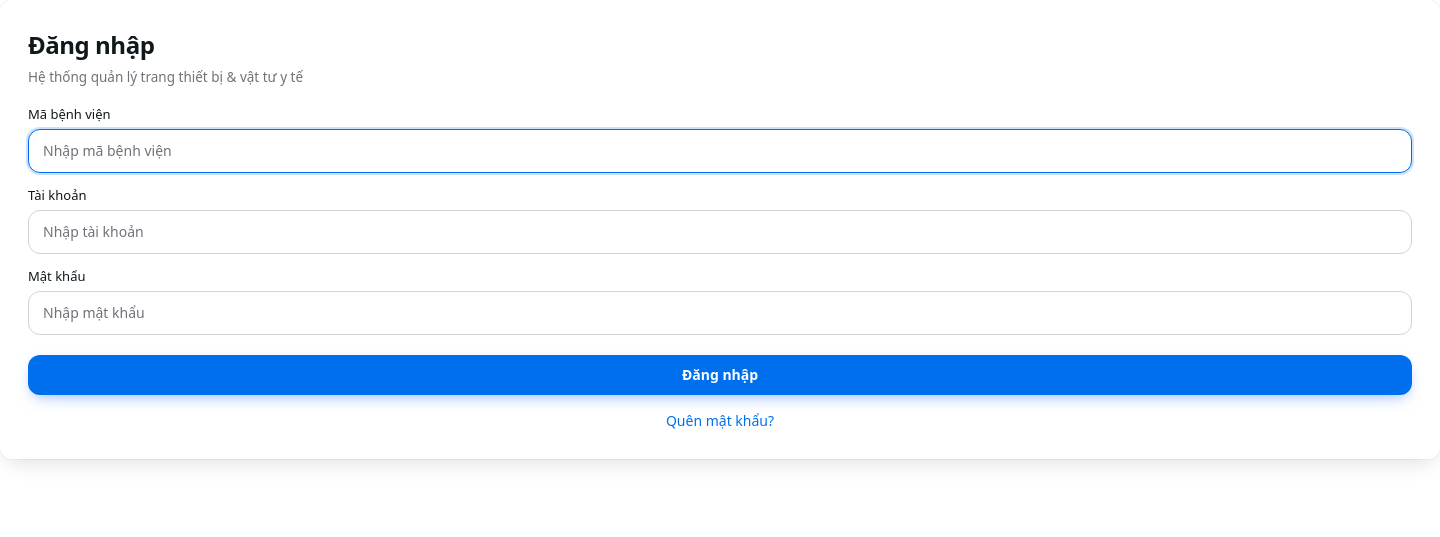
shows mapped error on 401 and uppercases hospital code
This screenshot has width=1440, height=537.
Step 1. Type "bvdemo" into the field labelled "Mã bệnh viện" → coordinates (720, 151), box left=28, top=129, right=1412, bottom=173
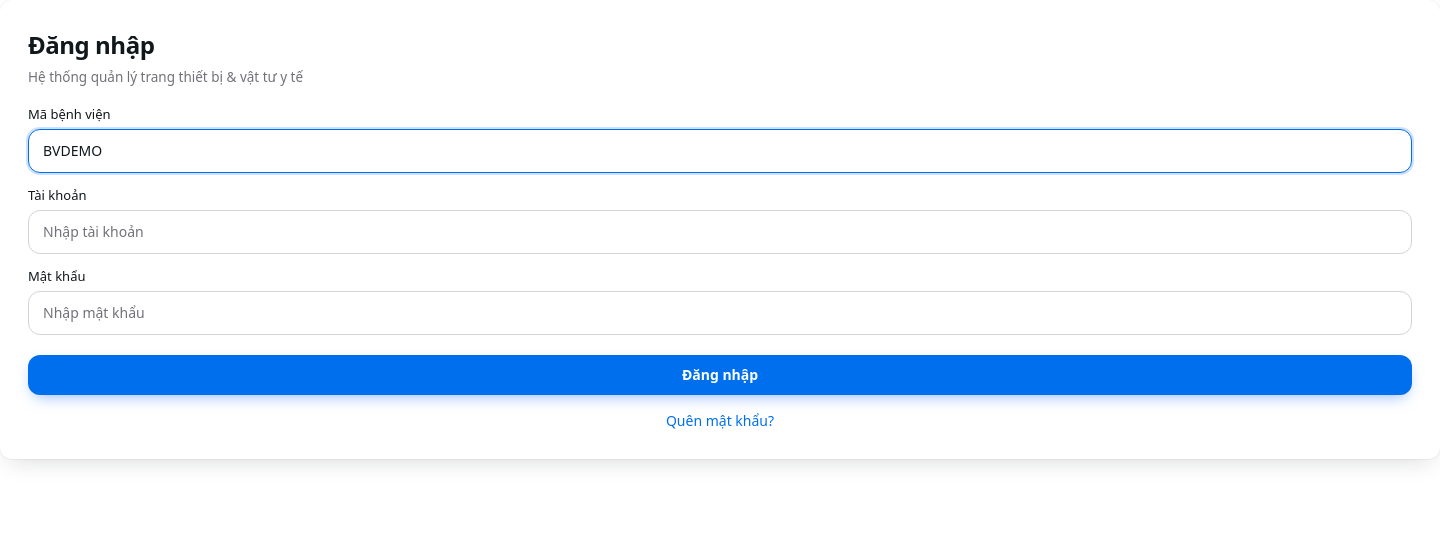
Step 2. Type "admin" into the field labelled "Tài khoản" → coordinates (720, 232), box left=28, top=210, right=1412, bottom=254
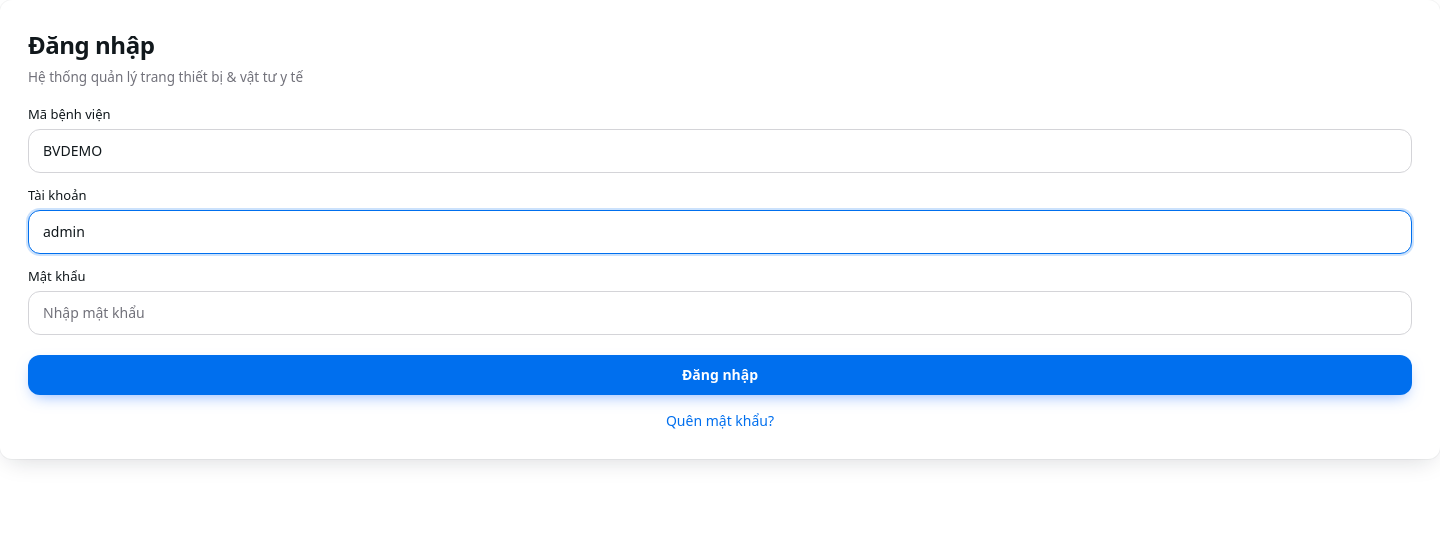
Step 3. Type "x" into the password field labelled "Mật khẩu" → coordinates (720, 313), box left=28, top=291, right=1412, bottom=335
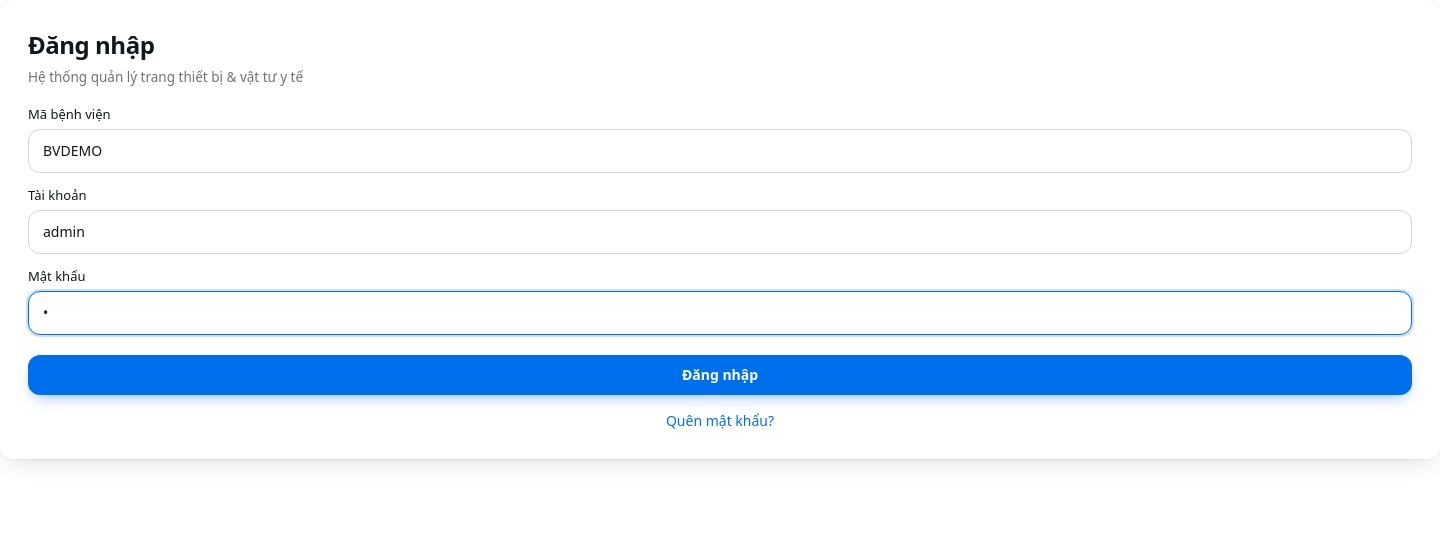
Step 4. Click the button "Đăng nhập" → coordinates (720, 375), box left=28, top=355, right=1412, bottom=395
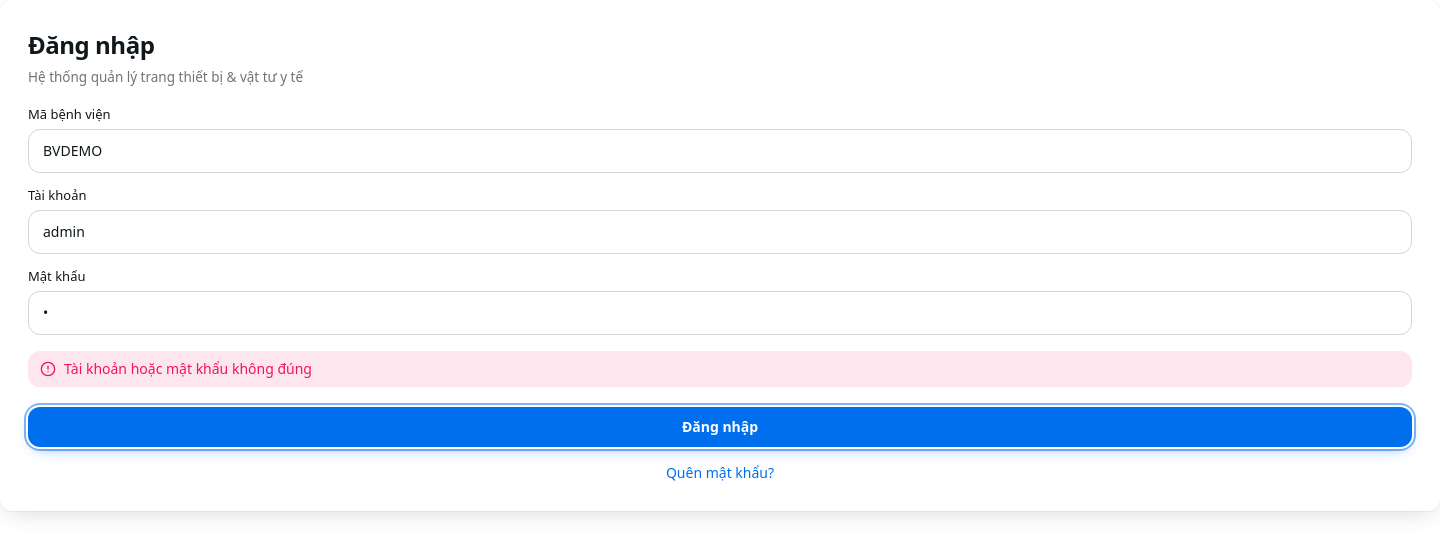
Expected: the message reads "Tài khoản hoặc mật khẩu không đúng", left=64, top=359, right=312, bottom=378
